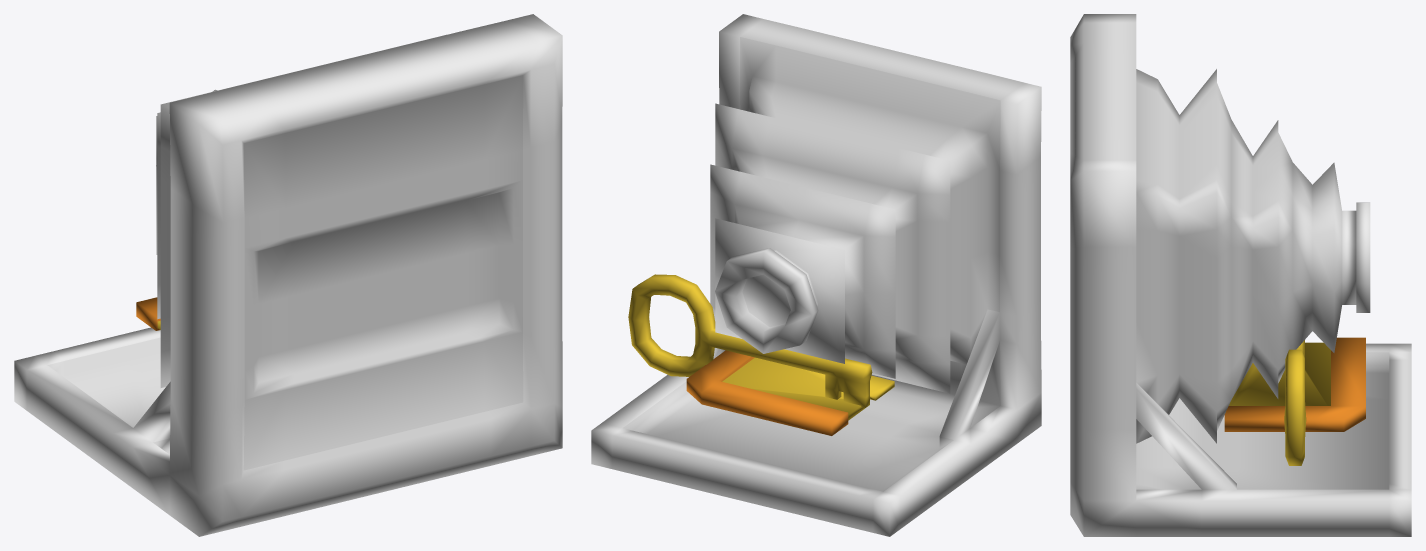
File: Access card.fbx
3 views of the same model, side by side, from view 1: azimuth 30°, elevation 25°; view 2: azimuth 150°, elevation 25°; view 3: azimuth 270°, elevation 25° (orthographic). The views are drawn at different scales.
Visible parts, largest first — view 1: Cube.002; view 2: Cube.002, Cube, Cube.001; view 3: Cube.002, Cube, Cube.001.
Boxes of the visible parts, box(x1,y1,x2,y2) form: Cube.002: box(14, 14, 562, 536); Cube.002: box(591, 14, 1041, 536); Cube: box(686, 350, 894, 435); Cube.001: box(628, 274, 872, 407); Cube.002: box(1070, 14, 1411, 536); Cube: box(1224, 337, 1365, 431); Cube.001: box(1284, 340, 1306, 465).
Bounding box in the file's own units: 245 × 254 × 215.
